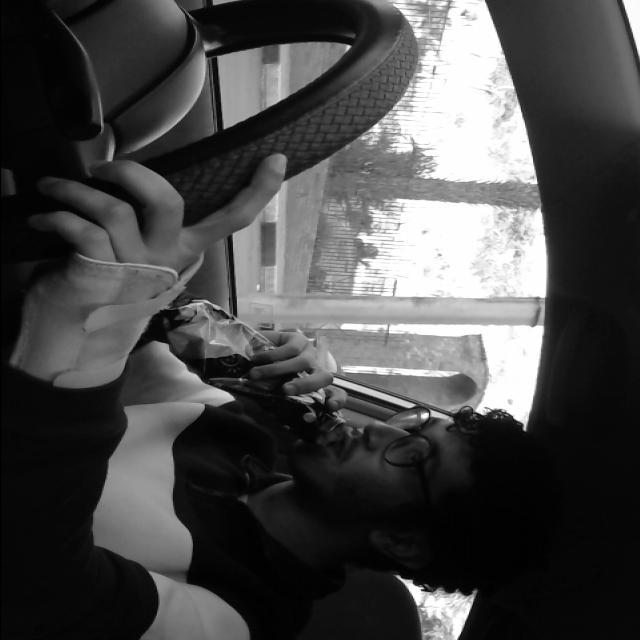eating: (122, 259, 366, 466)
